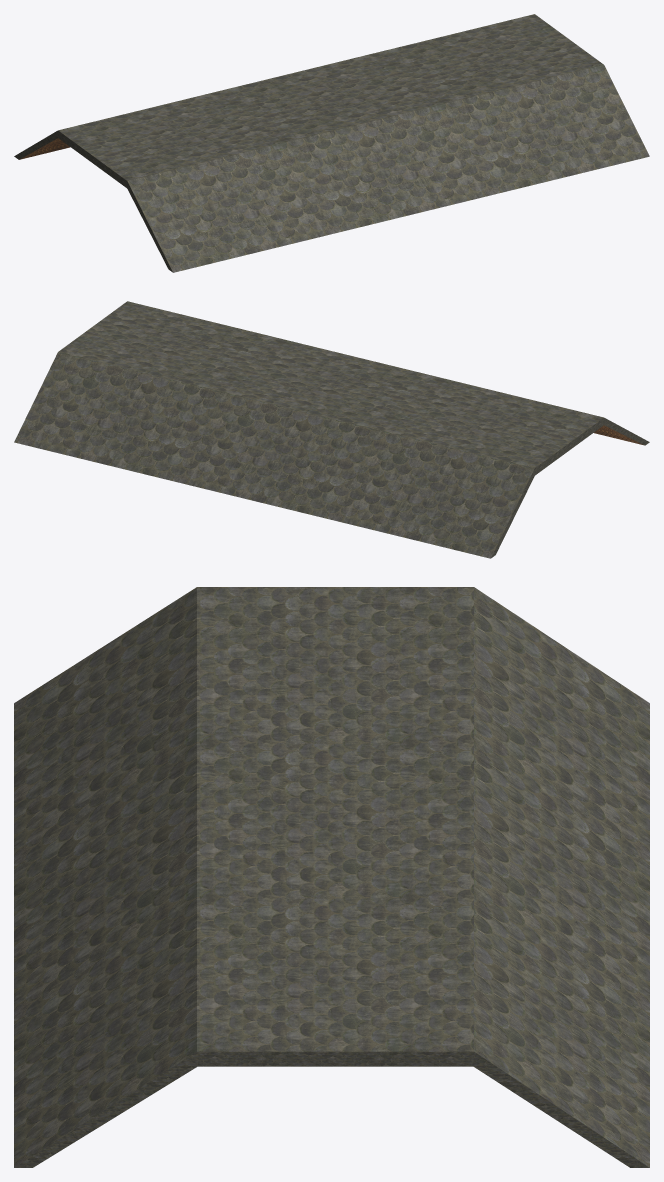
Rendered from Ceiling.FBX.
3 views of the same model, one above another, from view 1: azimuth 30°, elevation 25°; view 2: azimuth 150°, elevation 25°; view 3: azimuth 270°, elevation 25° (orthographic). The views are drawn at different scales.
Visible parts, largest first — view 1: Ceiling; view 2: Ceiling; view 3: Ceiling.
Boxes of the visible parts, bbox=[...] form: Ceiling: bbox=[14, 14, 649, 272]; Ceiling: bbox=[14, 301, 649, 558]; Ceiling: bbox=[14, 587, 649, 1167].
Bounding box in the file's own units: 1358 × 158 × 785.
2 materials, 2 textured.
